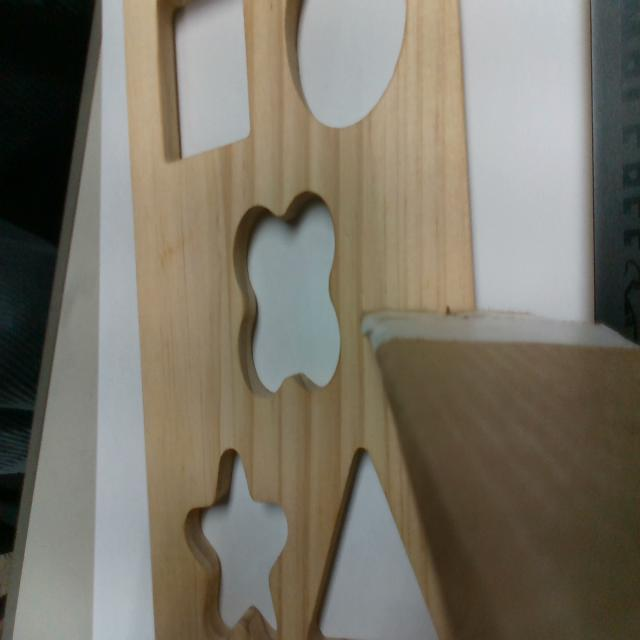circle: (284, 6, 408, 131)
flower: (232, 185, 342, 398)
square: (155, 2, 252, 163)
star: (182, 446, 289, 636)
triangle: (307, 445, 440, 639)
